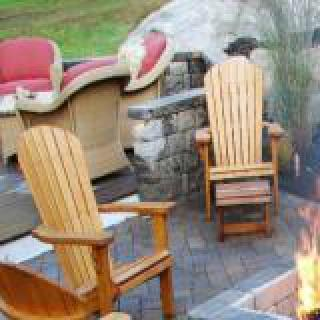fire: (300, 206, 320, 320)
